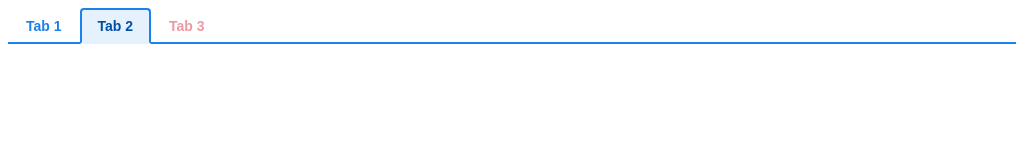
it: Tabs Component › clicking headers still switches tabs even when activeTab prop is provided
Click the tab "Tab 1" at (44, 26), box [8, 8, 80, 44]
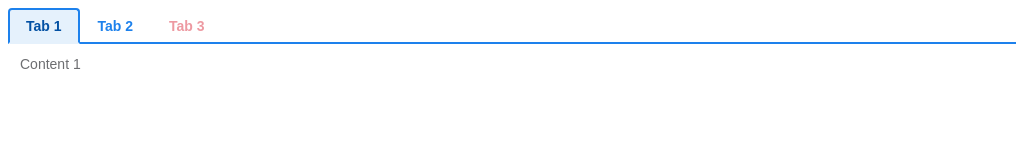
Expected: the text "Content 1" is shown, [20, 56, 81, 72]
